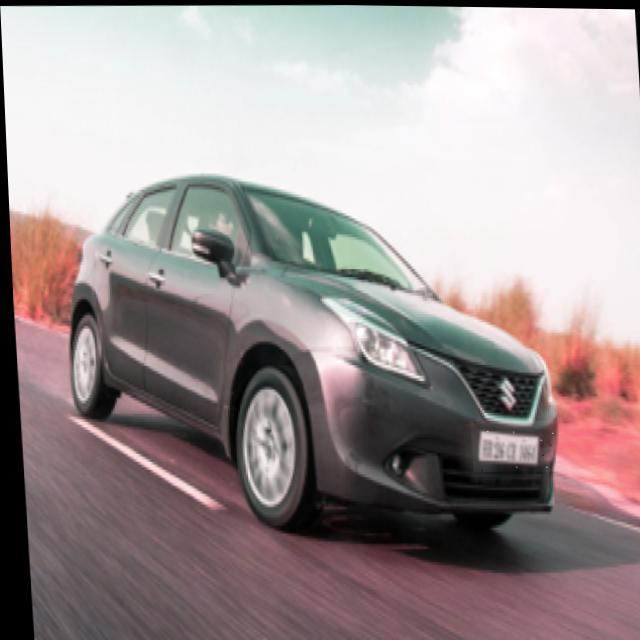license_plate: (466, 418, 552, 471)
